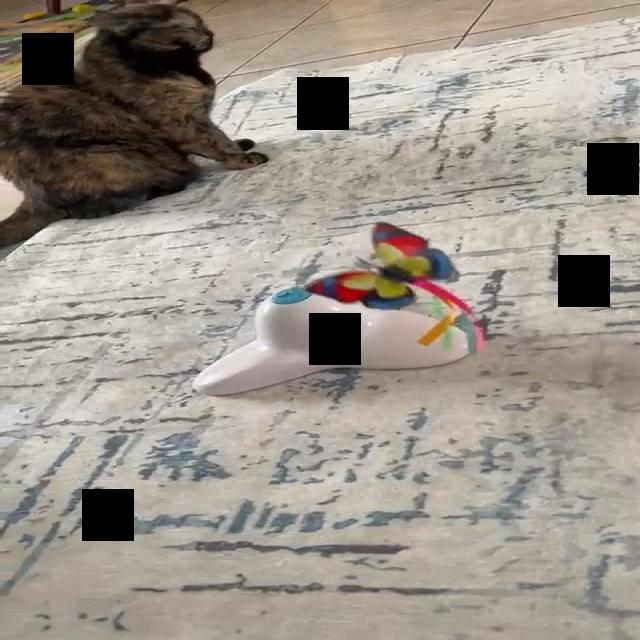authorized: (0, 1, 268, 248)
